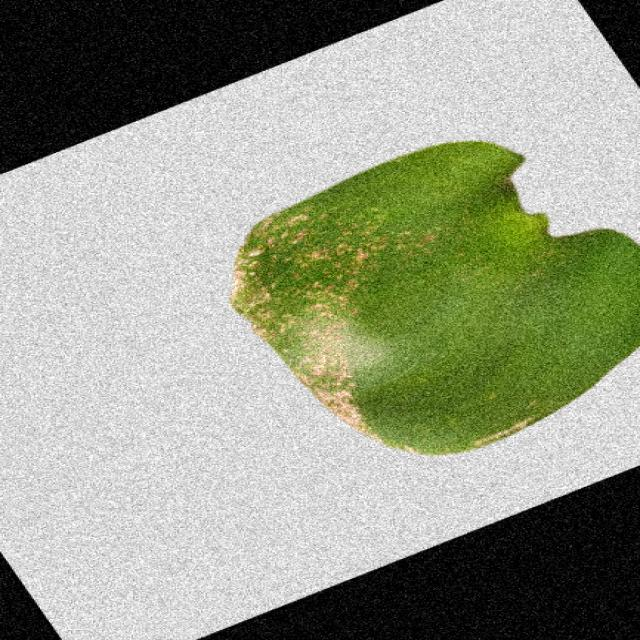daun berpenyakit bercak: (233, 141, 638, 454)
